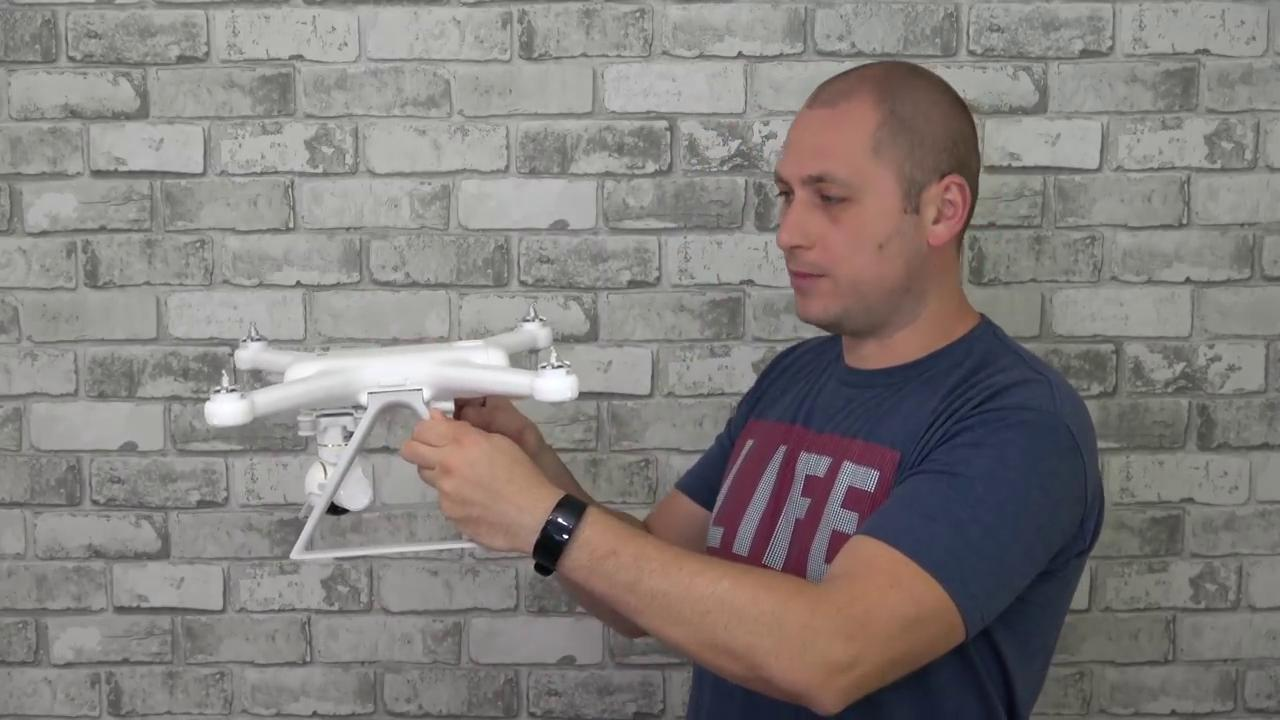drone: (192, 312, 632, 417)
